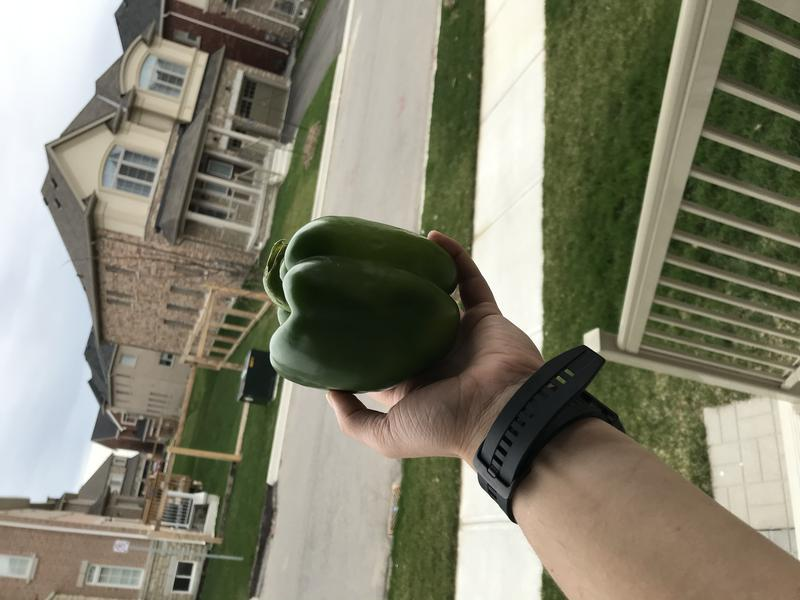green_pepper: (250, 207, 480, 398)
